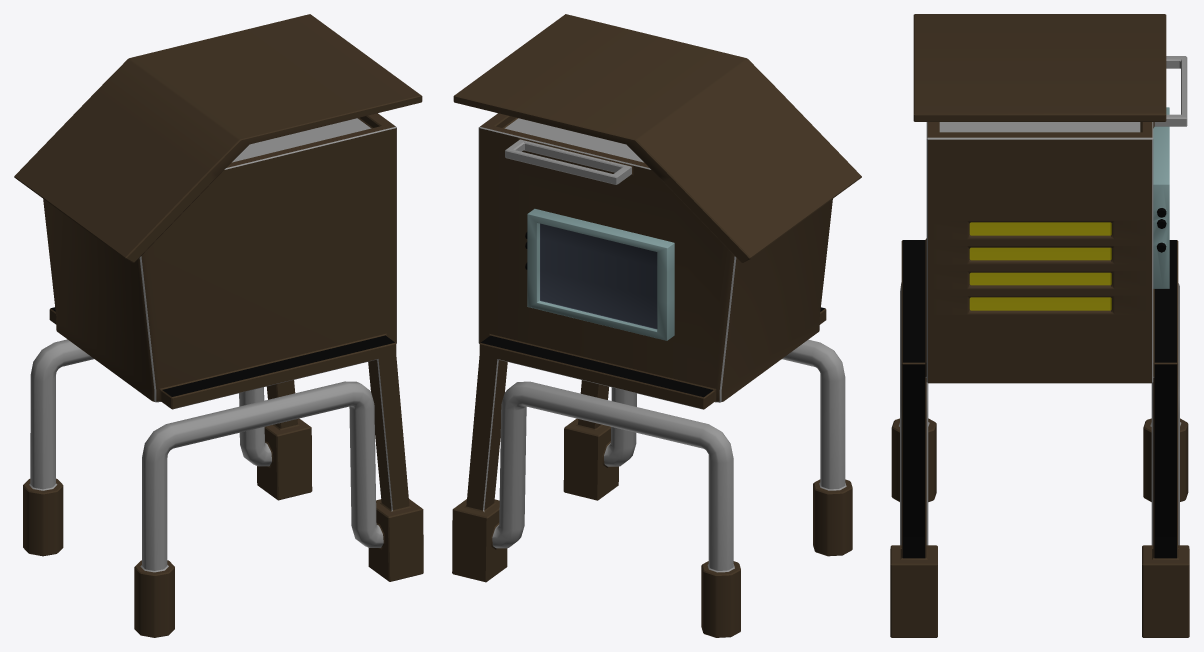
The model's file is hive 1.fbx.
3 renders of one model, left to right at view 1: azimuth 30°, elevation 25°; view 2: azimuth 150°, elevation 25°; view 3: azimuth 270°, elevation 25°, orthographic. The views are drawn at different scales.
Visible parts, largest first — view 1: Hive; view 2: Hive, Screen; view 3: Hive, Screen.
Part boxes in pixels (left/top/right/bottom): Hive: left=14, top=14, right=423, bottom=637; Hive: left=452, top=14, right=861, bottom=637; Screen: left=525, top=208, right=674, bottom=340; Hive: left=890, top=14, right=1189, bottom=637; Screen: left=1153, top=107, right=1169, bottom=288.
Size of the model in its own units: 630 by 951 by 487.
